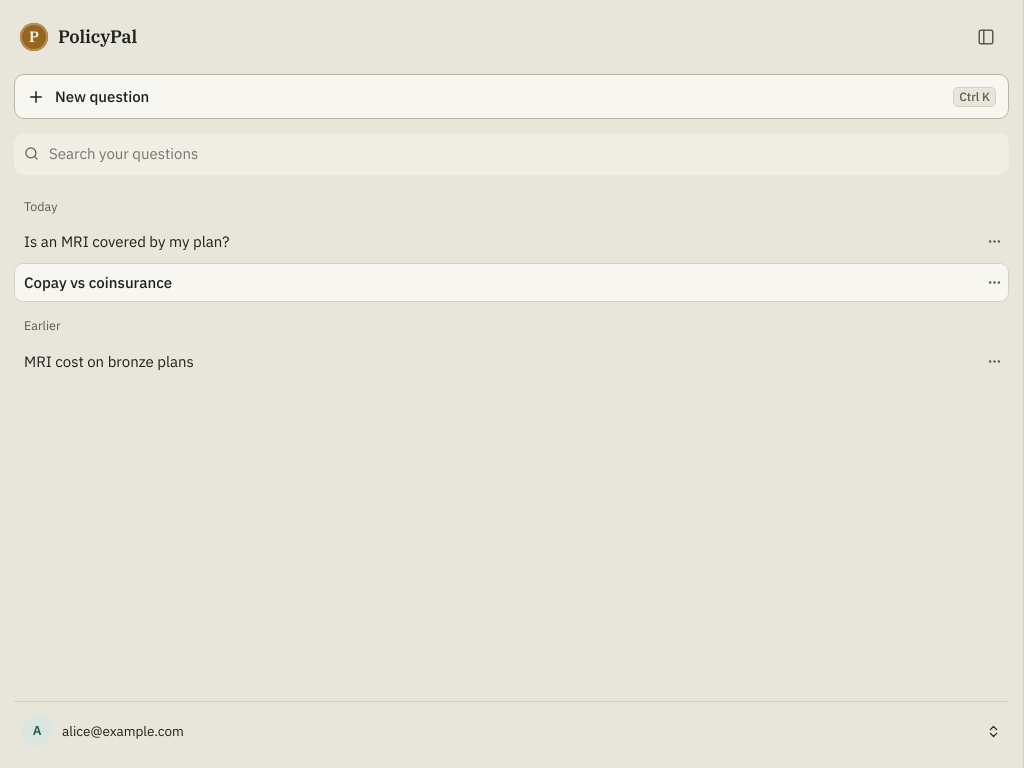
Test case: Sidebar › says one question matches in the singular
Type "copay" into the search field at (523, 154), box [47, 141, 999, 167]
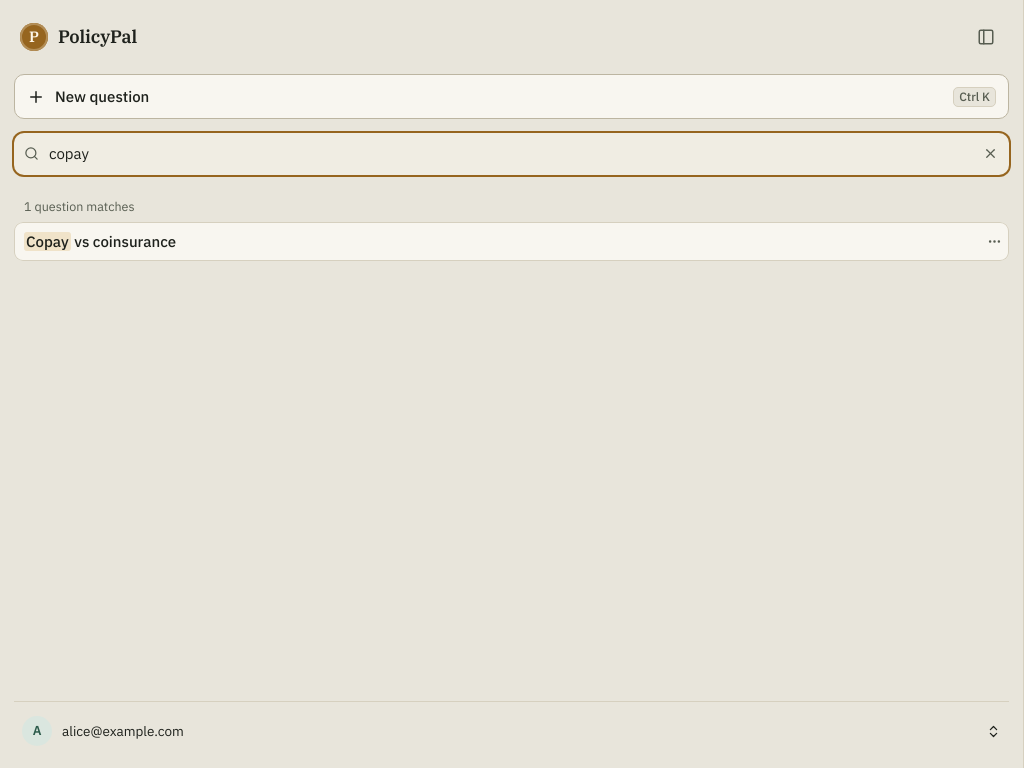
Now the heading "1 question matches" is shown, box [24, 198, 134, 214]
